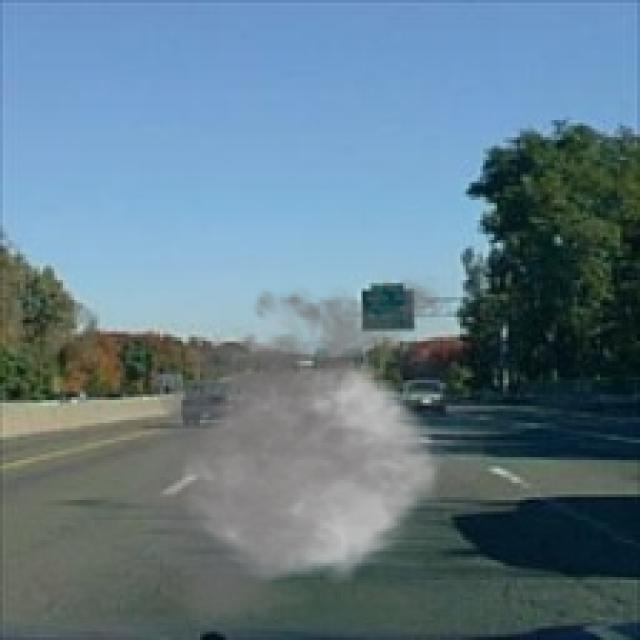Smoke: (106, 266, 512, 634)
